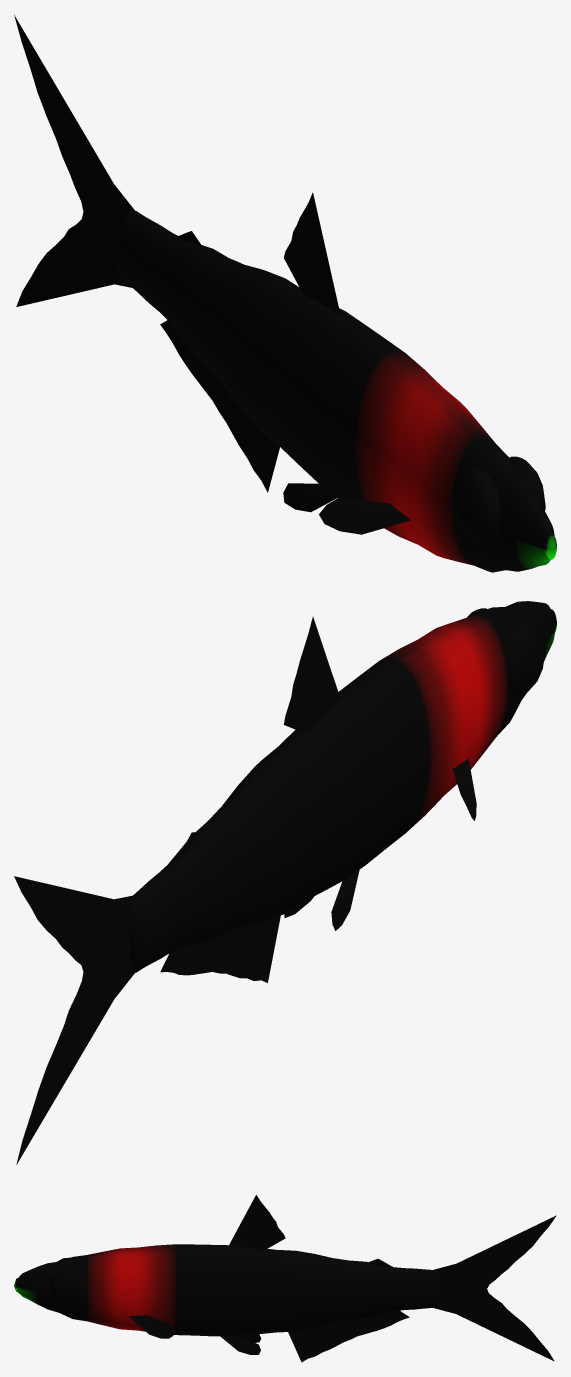
The model's file is rummynose-tetra.glb.
3 views of the same model, one above another, from view 1: azimuth 30°, elevation 25°; view 2: azimuth 150°, elevation 25°; view 3: azimuth 270°, elevation 25° (orthographic). The views are drawn at different scales.
Visible parts, largest first — view 1: Rummy_wild_body, Rummy_wild_caudal, Rummy_wild_anal, Rummy_wild_dorsal, Rummy_wild_eyeL, Rummy_wild_pectoralL, Rummy_wild_pelvicL; view 2: Rummy_wild_body, Rummy_wild_caudal, Rummy_wild_anal, Rummy_wild_dorsal, Rummy_wild_eyeL, Rummy_wild_pelvicL, Rummy_wild_pectoralL; view 3: Rummy_wild_body, Rummy_wild_caudal, Rummy_wild_anal, Rummy_wild_dorsal, Rummy_wild_eyeR, Rummy_wild_pectoralR, Rummy_wild_pelvicR.
Part boxes in pixels (x1=…): Rummy_wild_body: x1=116, y1=210, x2=556, y2=572; Rummy_wild_caudal: x1=14, y1=15, x2=135, y2=306; Rummy_wild_anal: x1=160, y1=320, x2=279, y2=492; Rummy_wild_dorsal: x1=284, y1=192, x2=340, y2=314; Rummy_wild_eyeL: x1=452, y1=466, x2=499, y2=545; Rummy_wild_pectoralL: x1=319, y1=497, x2=410, y2=534; Rummy_wild_pelvicL: x1=283, y1=483, x2=337, y2=512; Rummy_wild_body: x1=130, y1=601, x2=556, y2=973; Rummy_wild_caudal: x1=14, y1=876, x2=135, y2=1164; Rummy_wild_anal: x1=160, y1=915, x2=280, y2=982; Rummy_wild_dorsal: x1=283, y1=617, x2=340, y2=732; Rummy_wild_eyeL: x1=505, y1=618, x2=545, y2=697; Rummy_wild_pelvicL: x1=331, y1=870, x2=359, y2=930; Rummy_wild_pectoralL: x1=452, y1=759, x2=476, y2=820; Rummy_wild_body: x1=14, y1=1244, x2=440, y2=1336; Rummy_wild_caudal: x1=434, y1=1215, x2=556, y2=1361; Rummy_wild_anal: x1=288, y1=1310, x2=409, y2=1362; Rummy_wild_dorsal: x1=228, y1=1195, x2=285, y2=1249; Rummy_wild_eyeR: x1=49, y1=1268, x2=87, y2=1305; Rummy_wild_pectoralR: x1=129, y1=1315, x2=173, y2=1338; Rummy_wild_pelvicR: x1=220, y1=1335, x2=260, y2=1354.
Size of the model in its own units: 0.2096 by 0.4365 by 1.28.
